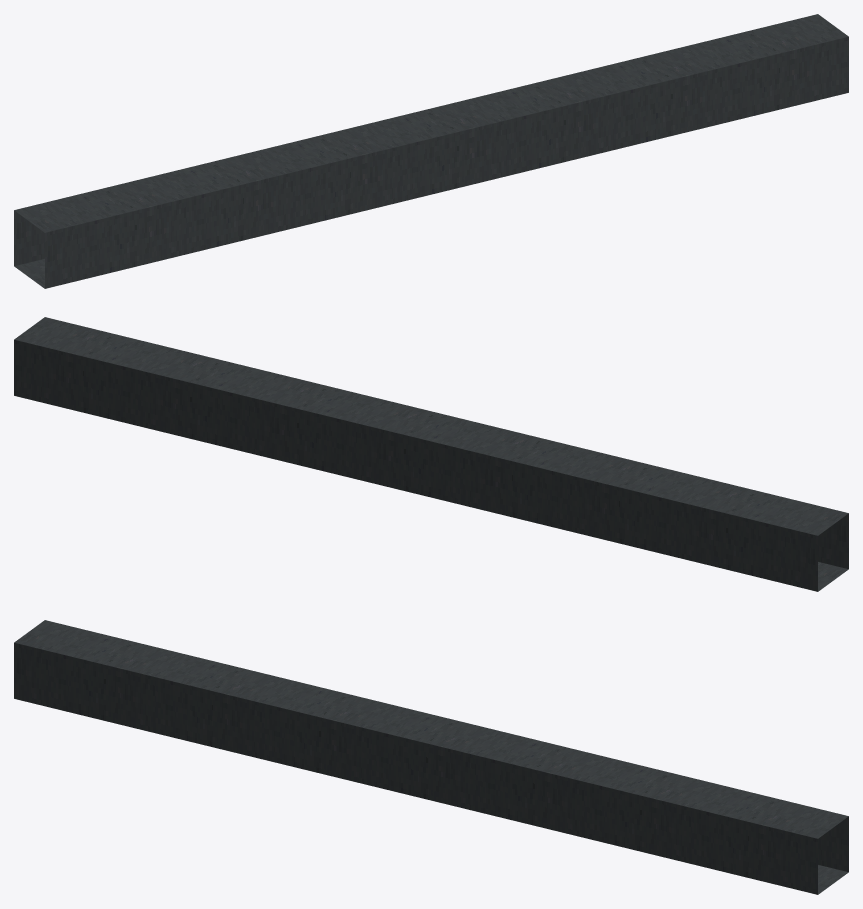
The model's file is gantry_arm.obj.
The picture shows the model from 3 angles, top to bottom: view 1: azimuth 30°, elevation 25°; view 2: azimuth 150°, elevation 25°; view 3: azimuth 330°, elevation 25°; orthographic projection.
Visible parts, largest first — view 1: gantry_arm; view 2: gantry_arm; view 3: gantry_arm.
Part boxes in pixels (x1=…): gantry_arm: x1=14, y1=14, x2=848, y2=288; gantry_arm: x1=14, y1=317, x2=848, y2=591; gantry_arm: x1=14, y1=620, x2=848, y2=894.
Bounding box in the file's own units: 3.75 × 0.25 × 0.25.
